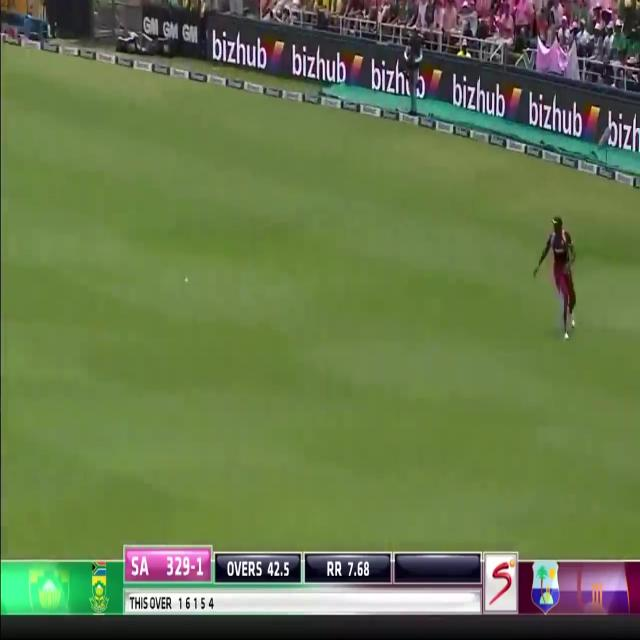Fielder: (533, 213, 581, 338)
